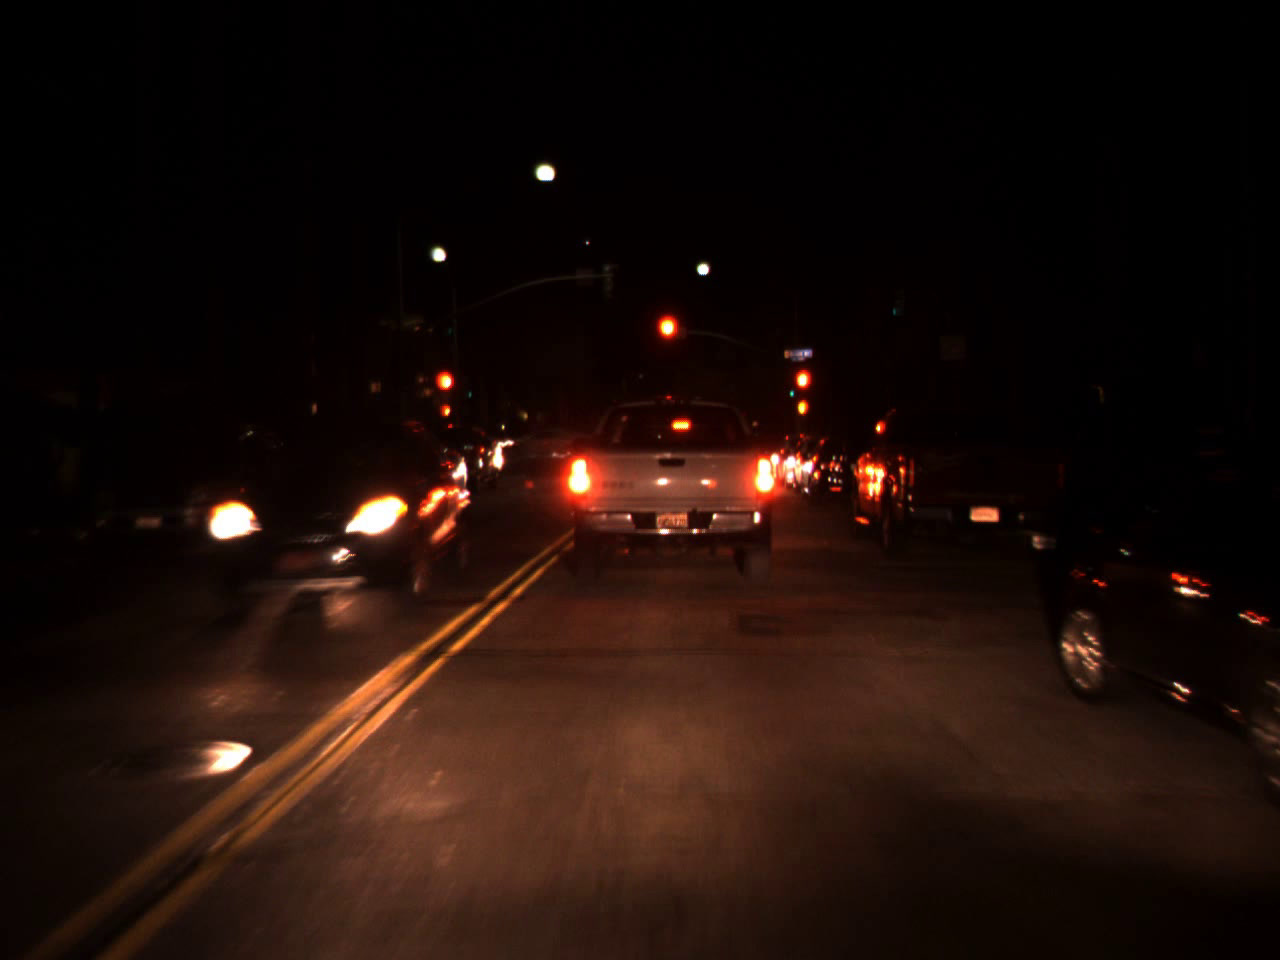stop: (654, 310, 681, 369), (434, 367, 458, 415), (792, 365, 813, 413)
